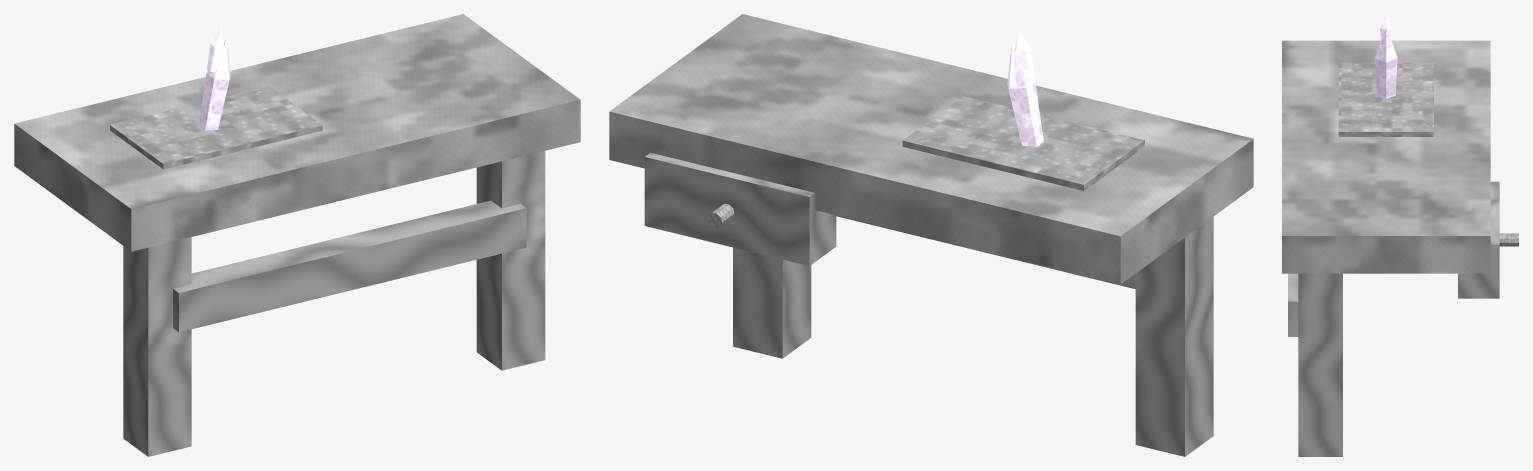
Rendered from furniture-geo-desk.glb.
3 views of the same model, side by side, from view 1: azimuth 30°, elevation 25°; view 2: azimuth 150°, elevation 25°; view 3: azimuth 270°, elevation 25° (orthographic). The views are drawn at different scales.
Visible parts, largest first — view 1: top, rear-rail, leg--0.61, leg-0.61, inlay, scribe-crystal; view 2: top, leg--0.61, drawer, inlay, leg-0.61, scribe-crystal; view 3: top, leg-0.61, inlay, drawer, scribe-crystal, rear-rail, drawer-pull.
Boxes of the visible parts, bbox=[...] form: top: bbox=[14, 14, 580, 251]; rear-rail: bbox=[173, 200, 526, 332]; leg--0.61: bbox=[123, 237, 191, 456]; leg-0.61: bbox=[476, 151, 545, 370]; inlay: bbox=[110, 86, 322, 169]; scribe-crystal: bbox=[198, 39, 230, 130]; top: bbox=[609, 14, 1253, 284]; leg--0.61: bbox=[1135, 217, 1213, 456]; drawer: bbox=[644, 152, 836, 265]; inlay: bbox=[902, 96, 1144, 190]; leg-0.61: bbox=[733, 247, 811, 358]; scribe-crystal: bbox=[1007, 42, 1043, 146]; top: bbox=[1282, 40, 1490, 273]; leg-0.61: bbox=[1298, 273, 1342, 456]; inlay: bbox=[1338, 62, 1433, 136]; drawer: bbox=[1458, 181, 1499, 298]; scribe-crystal: bbox=[1375, 27, 1397, 98]; rear-rail: bbox=[1288, 273, 1298, 336]; drawer-pull: bbox=[1499, 233, 1518, 246].
Bounding box in the file's own units: 1.55 × 1.2 × 0.795.
Materials: 6 (6 with a texture image).
